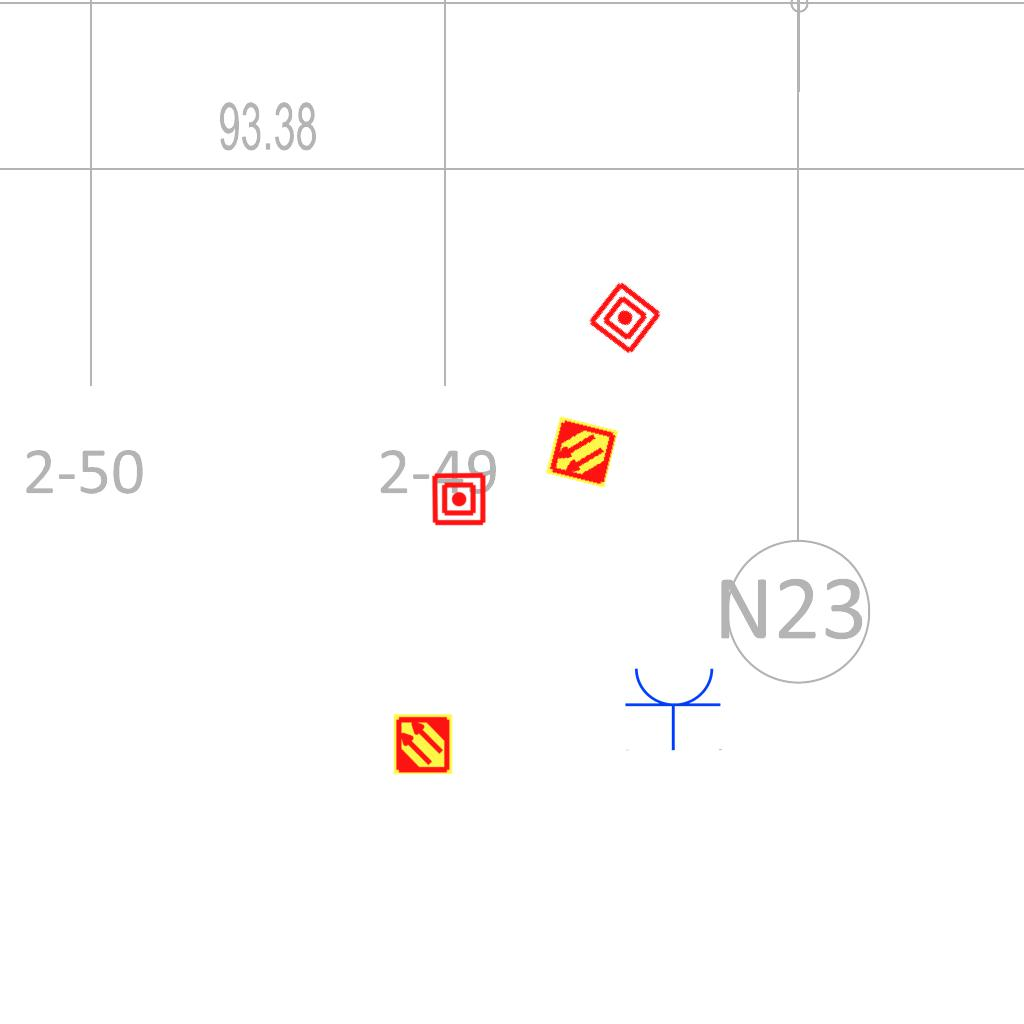ASR_Ansaugrauchmelder: (544, 414, 620, 490), (392, 713, 454, 775)
NAM-Nichtautomatischer_Melder: (585, 278, 665, 358), (431, 471, 487, 527)
Schukosteckdose_einfach: (624, 664, 724, 751)
